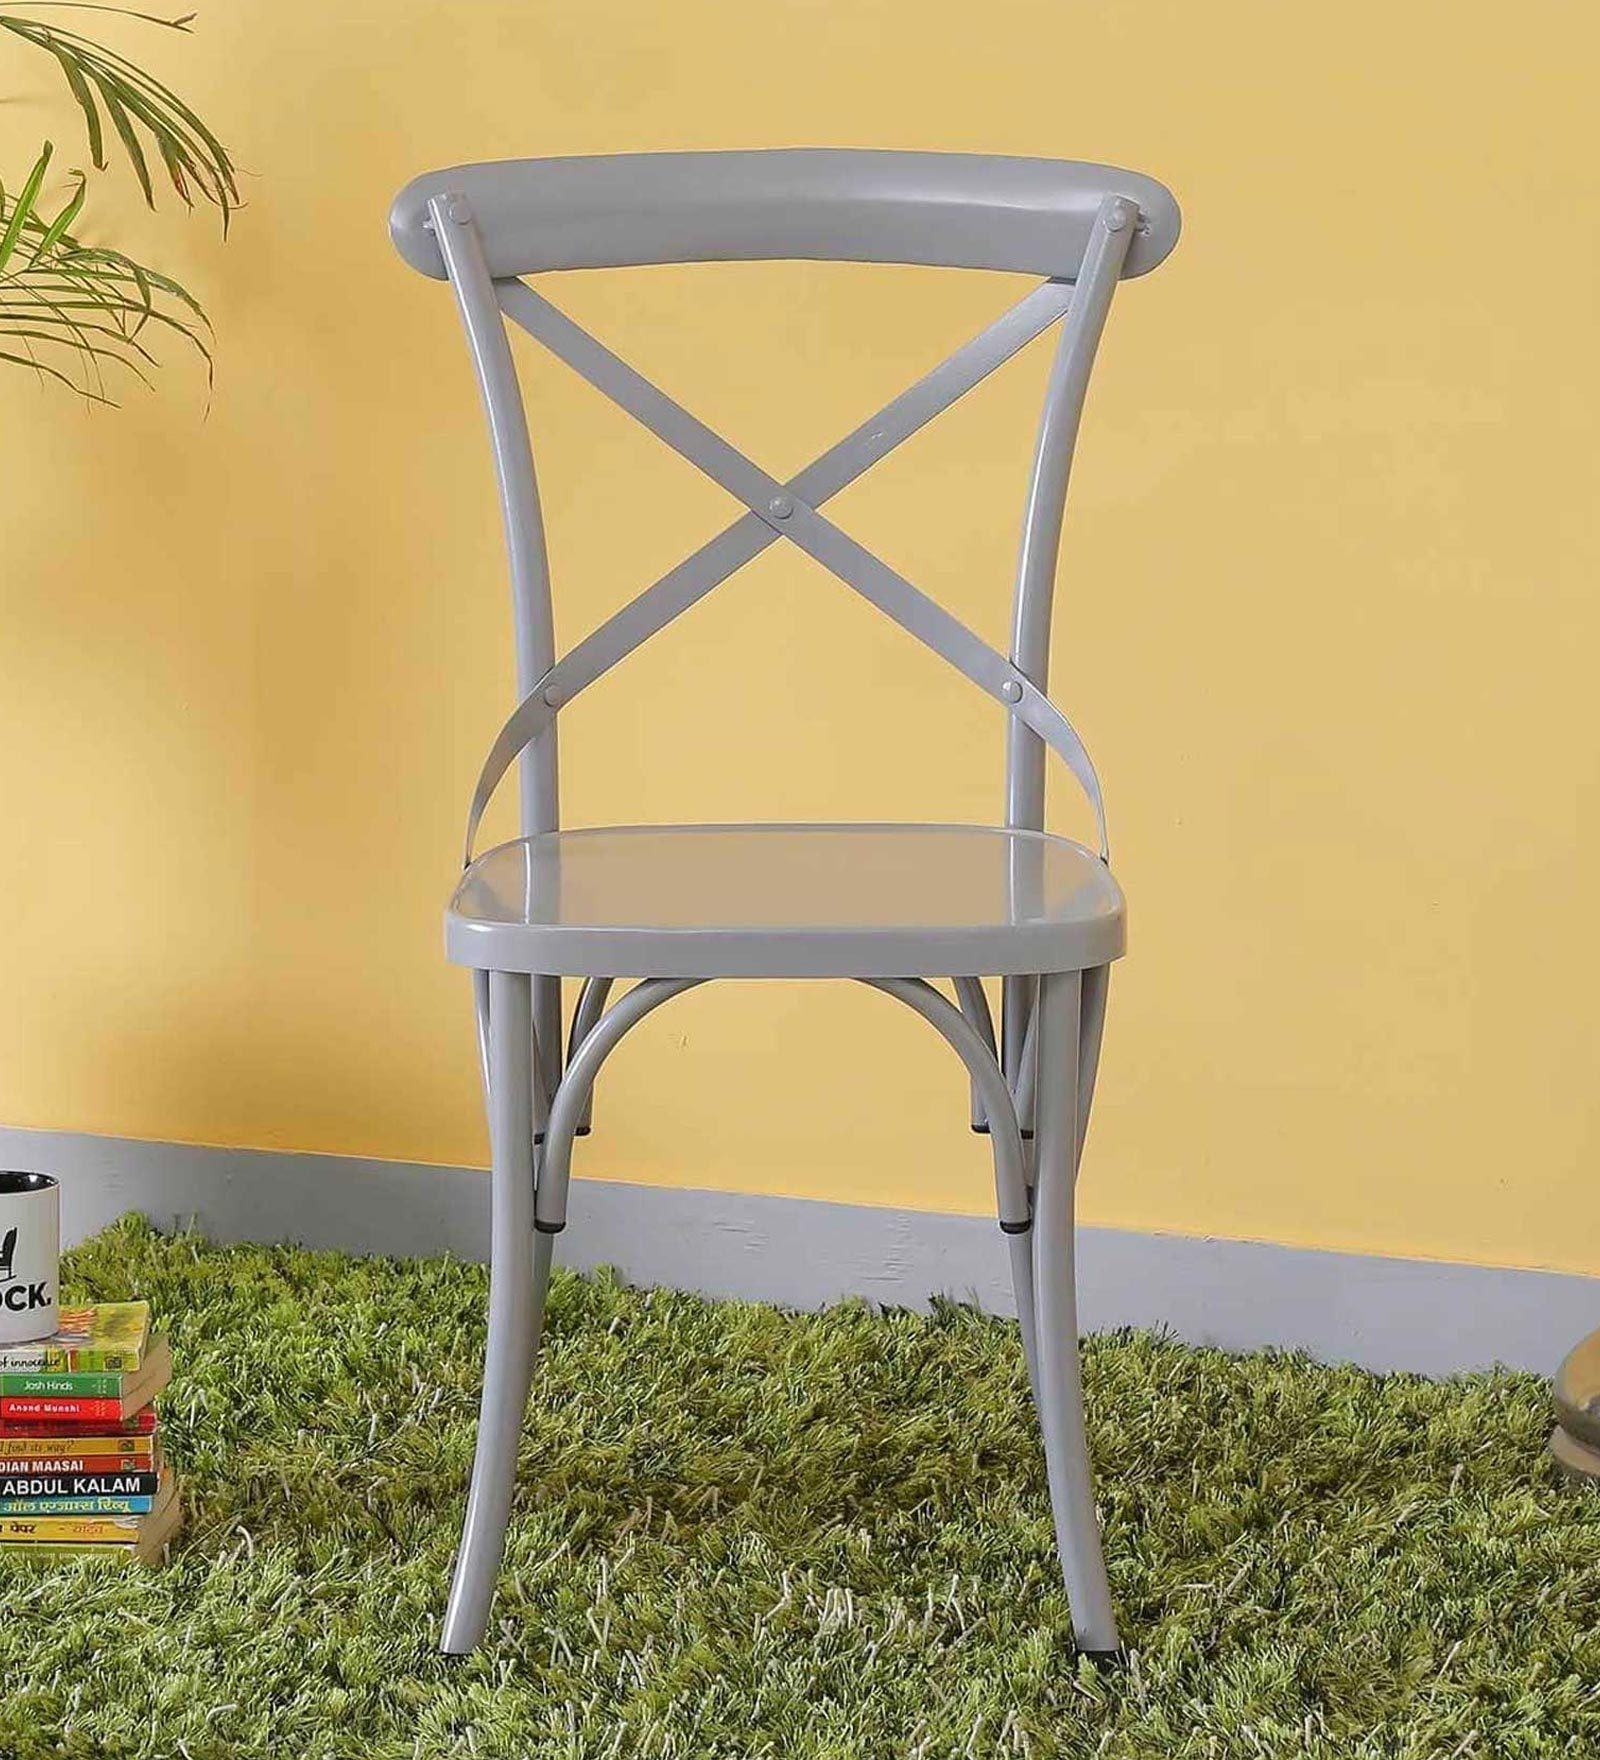Fabian Metal Chair in Steel Grey Color by Bohemiana: (363, 123, 1179, 1682)
